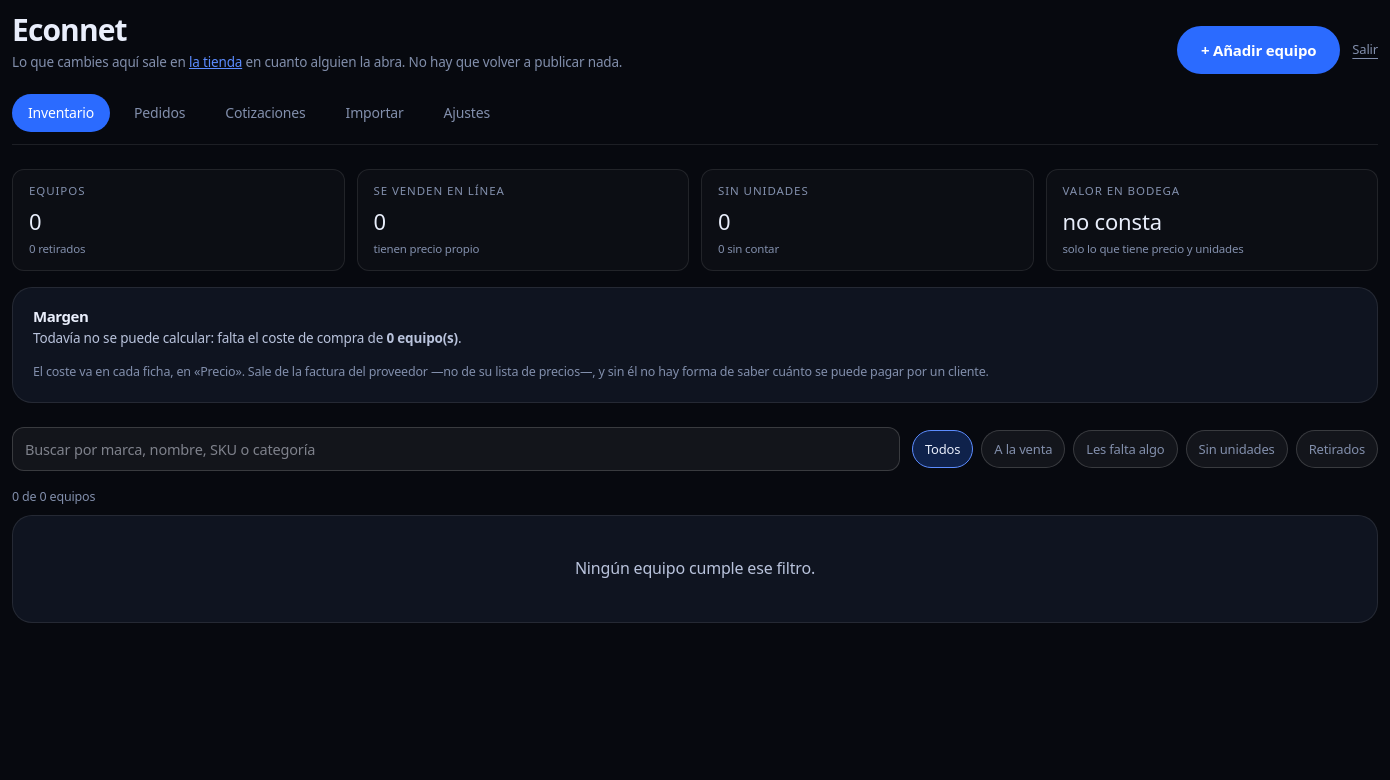
Test case: pedidos › avisa de los pedidos que esperan algo tuyo
What coordinates should you click on to do the following:
click the button "Pedidos"
I would click on:
 (160, 113)
Its box is top-left (118, 94), bottom-right (201, 132).
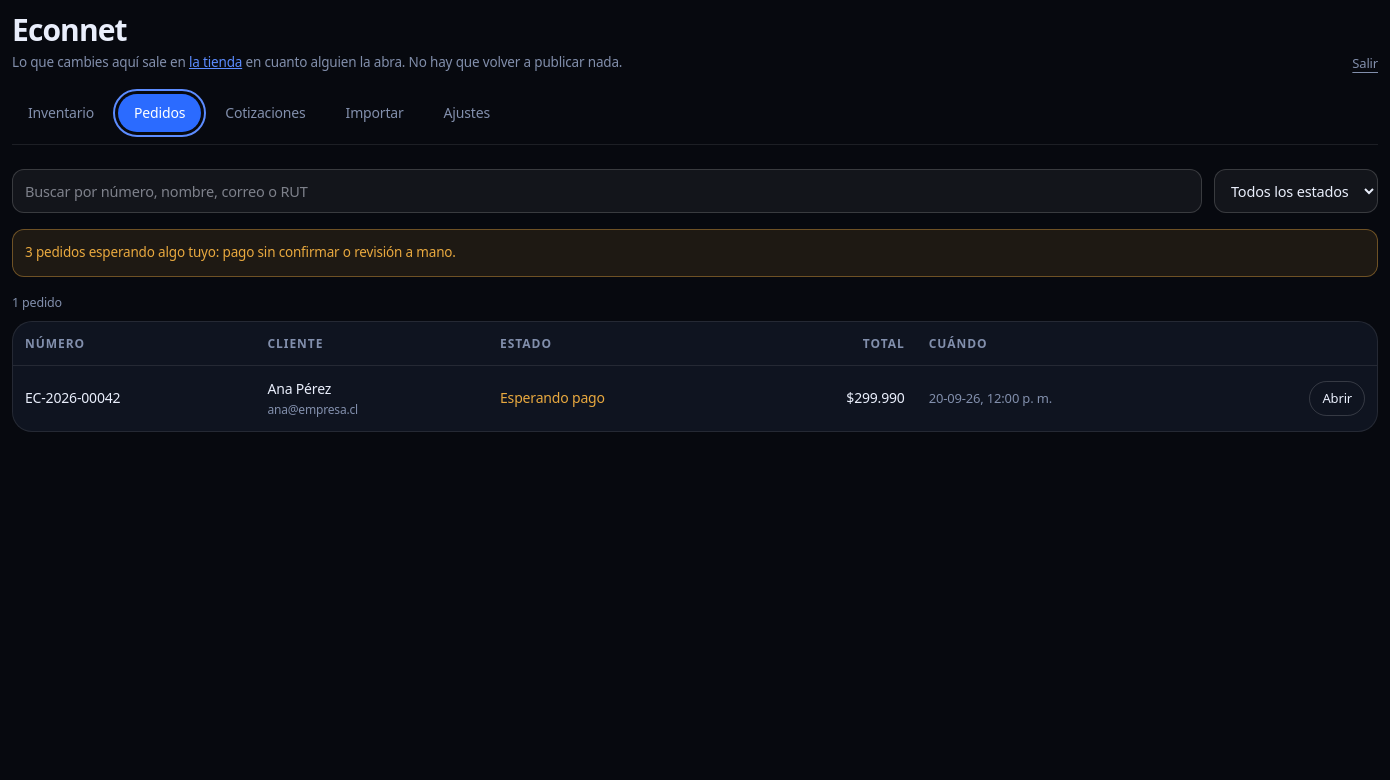
Now the text "3 pedidos esperando algo tuyo" is shown, box top-left (12, 229), bottom-right (1378, 277)
